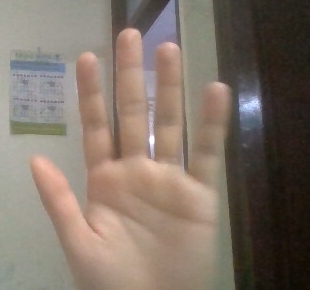move: (33, 28, 267, 290)
